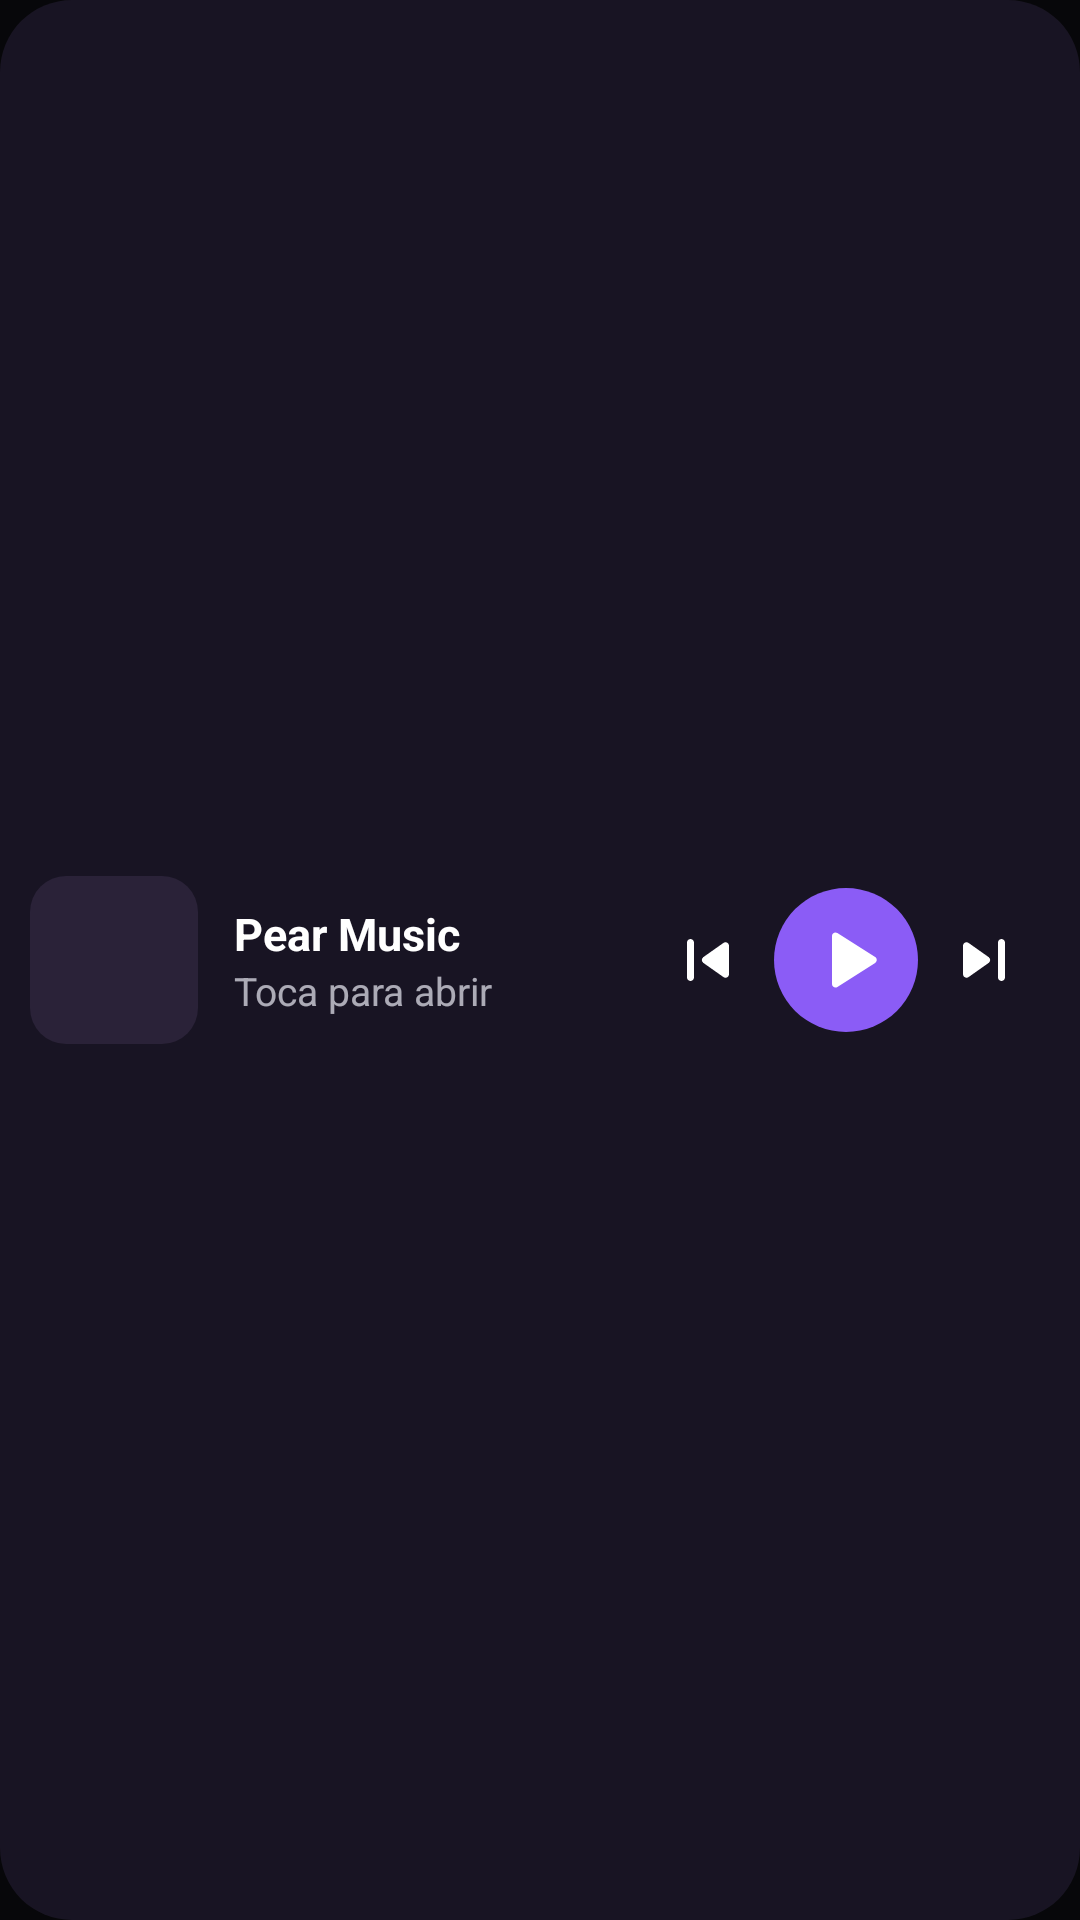

Named icons in this screenshot (1080w x 1920h) and their bounding boxes, (x1, y1, x2, y2):
Anterior: (687, 939, 729, 981)
Reproducir o pausar: (774, 888, 918, 1032)
Siguiente: (963, 939, 1005, 981)
